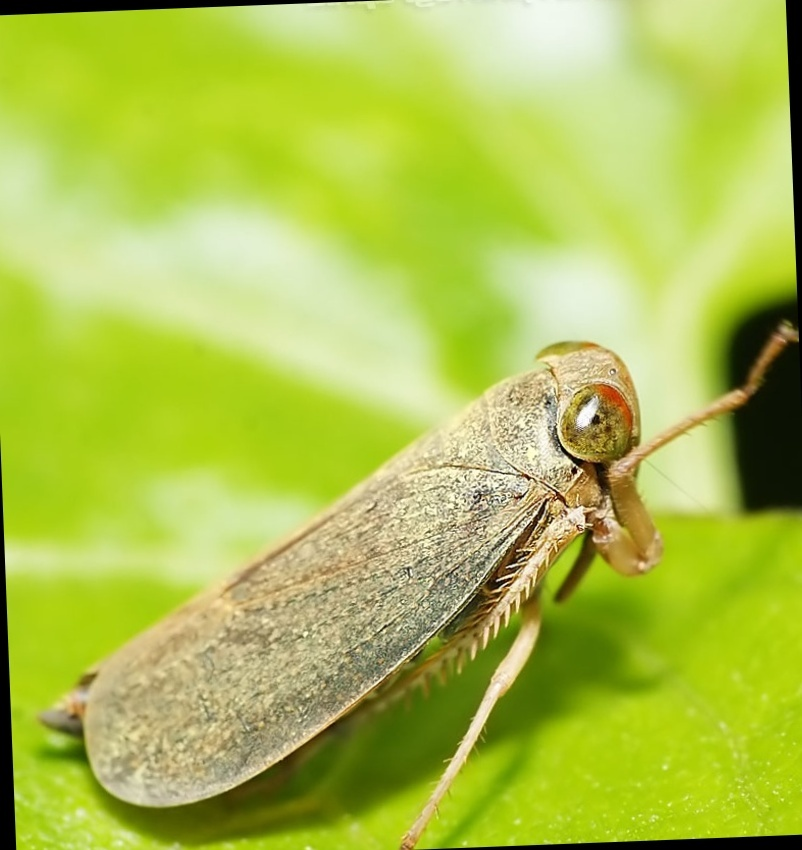Brown_hopper: (21, 306, 796, 846)
